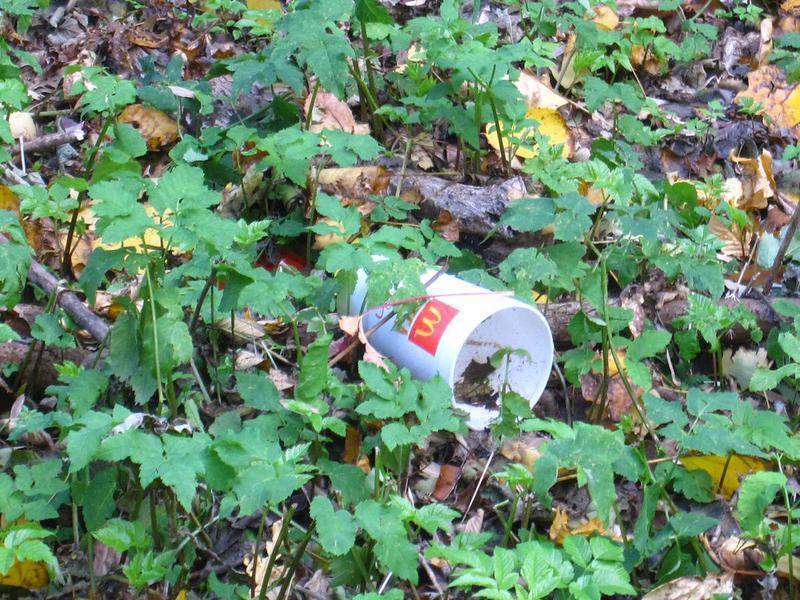cup: (331, 254, 555, 427)
leaf: (95, 429, 213, 516), (727, 467, 787, 543), (303, 486, 362, 559)
